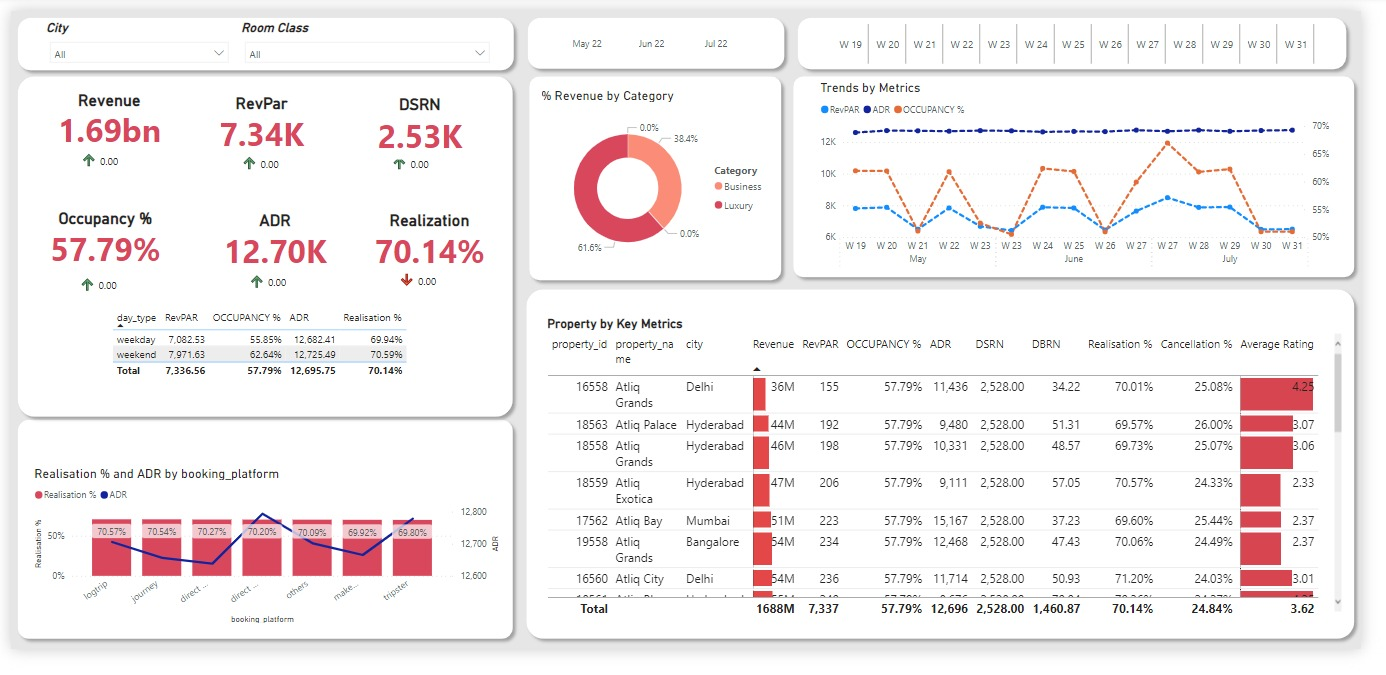

The dashboard page shown, as its layout file describes it:
{"tool":"powerbi","page":{"name":"Page 1","canvas":[1800,850],"ordinal":0},"visuals":[{"type":"shape","box":[0,0,679.7,88],"z":0,"group":"g1"},{"type":"shape","box":[682,78,354,290.2],"z":0,"group":"g5"},{"type":"shape","box":[1034,78,766,286],"z":0,"group":"g4"},{"type":"shape","box":[678,362,1122,484],"z":0,"group":"g6"},{"type":"shape","box":[0,536,678,310],"z":0},{"type":"shape","box":[1040,0,749.1,86.7],"z":1000,"group":"g3"},{"type":"shape","box":[0,78,678,472],"z":1000},{"type":"shape","box":[680,0,360,86],"z":2000,"group":"g2"},{"type":"tableEx","fields":{"Values":["key_measures.Revpar WoW change %"]},"box":[498,162,104,76],"z":2000},{"type":"tableEx","fields":{"Values":["key_measures.Occupancy WoW change %"]},"box":[81.5,323.4,92.9,57.1],"z":3000},{"type":"tableEx","fields":{"Values":["key_measures.ADR WoW change %"]},"box":[307.7,320.1,76.7,63.3],"z":4000},{"type":"tableEx","fields":{"Values":["key_measures.Realisation WoW change %"]},"box":[508.4,318.8,81.7,63.3],"z":5000},{"type":"tableEx","fields":{"Values":["key_measures.Revpar WoW change %"]},"box":[298.7,161.3,106,76],"z":6000},{"type":"tableEx","fields":{"Values":["key_measures.Revenue WoW change %"]},"box":[84.8,158.5,85,76.7],"z":7000},{"type":"card","title":"Revenue","fields":{"Values":["key_measures.Revenue"]},"box":[36.4,105.2,190,83.3],"z":8000},{"type":"tableEx","title":"Property by Key Metrics","fields":{"Values":["dim_hotels.property_id","dim_hotels.property_name","dim_hotels.city","key_measures.Revenue","key_measures.RevPAR","key_measures.OCCUPANCY %","key_measures.ADR","key_measures.DSRN","key_measures.DBRN","key_measures.Realisation %","key_measures.Cancellation %","key_measures.Average Rating"]},"box":[709.2,405.8,1068.7,408.1],"z":8000,"group":"g6"},{"type":"donutChart","title":"% Revenue by Category","fields":{"Y":["key_measures.OCCUPANCY %","key_measures.Revenue"],"Category":["dim_hotels.category"]},"box":[702.8,102.4,316.5,248.7],"z":9000,"group":"g5"},{"type":"card","title":"RevPar","fields":{"Values":["key_measures.RevPAR"]},"box":[240.7,109.3,188,84],"z":9000},{"type":"card","title":"DSRN","fields":{"Values":["key_measures.DSRN"]},"box":[442,112,206,86],"z":10000},{"type":"slicer","title":"City","fields":{"Values":["dim_hotels.city"]},"box":[41,11.6,257.8,66.4],"z":11000,"group":"g1"},{"type":"card","title":"Occupancy %","fields":{"Values":["key_measures.OCCUPANCY %"]},"box":[31.9,264.1,187.5,85],"z":11000},{"type":"slicer","title":"Room Class","fields":{"Values":["dim_rooms.room_class"]},"box":[301.7,11.6,345.7,66.4],"z":12000,"group":"g1"},{"type":"card","title":"ADR","fields":{"Values":["key_measures.ADR"]},"box":[258.4,265.8,188,86],"z":12000},{"type":"slicer","fields":{"Values":["dim_date.mmm yy"]},"box":[699.1,13.1,306,57.2],"z":13000,"group":"g2"},{"type":"card","title":"Realization","fields":{"Values":["key_measures.Realisation %"]},"box":[464.4,266.4,188,84],"z":13000},{"type":"slicer","fields":{"Values":["dim_date.week no"]},"box":[1069.7,10,691.5,66.7],"z":14000,"group":"g3"},{"type":"lineStackedColumnComboChart","fields":{"Y":["key_measures.Realisation %"],"Category":["fact_bookings.booking_platform"],"Y2":["key_measures.ADR"]},"box":[25,605,630,215],"z":14000},{"type":"lineChart","title":"Trends by Metrics","fields":{"Category":["dim_date.date.Variation.Date Hierarchy.Month","dim_date.week no"],"Y":["key_measures.RevPAR","key_measures.ADR"],"Y2":["key_measures.OCCUPANCY %"]},"box":[1073.6,91.8,689,260.6],"z":15000,"group":"g4"},{"type":"tableEx","fields":{"Values":["dim_date.day_type","key_measures.RevPAR","key_measures.OCCUPANCY %","key_measures.ADR","key_measures.Realisation %"]},"box":[130,392,428,144],"z":15000},{"type":"group","id":"g1","title":"Group 1","box":[0,0,682,88],"z":16000},{"type":"group","id":"g2","title":"Group 2","box":[680,0,360,86],"z":17000},{"type":"group","id":"g3","title":"Group 3","box":[1040,0,746,86],"z":18000},{"type":"group","id":"g4","title":"Group 4","box":[1034,78,766,286],"z":19000},{"type":"group","id":"g5","title":"Group 5","box":[682,78,356,288],"z":20000},{"type":"group","id":"g6","title":"Group 6","box":[678,362,1122,484],"z":21000}]}

Visuals, with their boxes on the page's 1800x850 design canvas (x1, y1, x2, y2). These are canvas units, not pixel positions in the 1386x675 screenshot, which may show the page scaled, cropped or inside an application window:
shape: <bbox>0, 0, 680, 88</bbox>
shape: <bbox>682, 78, 1036, 368</bbox>
shape: <bbox>1034, 78, 1800, 364</bbox>
shape: <bbox>678, 362, 1800, 846</bbox>
shape: <bbox>0, 536, 678, 846</bbox>
shape: <bbox>1040, 0, 1789, 87</bbox>
shape: <bbox>0, 78, 678, 550</bbox>
shape: <bbox>680, 0, 1040, 86</bbox>
tableEx - key_measures.Revpar WoW change %: <bbox>498, 162, 602, 238</bbox>
tableEx - key_measures.Occupancy WoW change %: <bbox>82, 323, 174, 380</bbox>
tableEx - key_measures.ADR WoW change %: <bbox>308, 320, 384, 383</bbox>
tableEx - key_measures.Realisation WoW change %: <bbox>508, 319, 590, 382</bbox>
tableEx - key_measures.Revpar WoW change %: <bbox>299, 161, 405, 237</bbox>
tableEx - key_measures.Revenue WoW change %: <bbox>85, 158, 170, 235</bbox>
"Revenue" card: <bbox>36, 105, 226, 188</bbox>
"Property by Key Metrics" tableEx: <bbox>709, 406, 1778, 814</bbox>
"% Revenue by Category" donutChart: <bbox>703, 102, 1019, 351</bbox>
"RevPar" card: <bbox>241, 109, 429, 193</bbox>
"DSRN" card: <bbox>442, 112, 648, 198</bbox>
"City" slicer: <bbox>41, 12, 299, 78</bbox>
"Occupancy %" card: <bbox>32, 264, 219, 349</bbox>
"Room Class" slicer: <bbox>302, 12, 647, 78</bbox>
"ADR" card: <bbox>258, 266, 446, 352</bbox>
slicer - dim_date.mmm yy: <bbox>699, 13, 1005, 70</bbox>
"Realization" card: <bbox>464, 266, 652, 350</bbox>
slicer - dim_date.week no: <bbox>1070, 10, 1761, 77</bbox>
lineStackedColumnComboChart - key_measures.Realisation % x fact_bookings.booking_platform: <bbox>25, 605, 655, 820</bbox>
"Trends by Metrics" lineChart: <bbox>1074, 92, 1763, 352</bbox>
tableEx - dim_date.day_type x key_measures.RevPAR: <bbox>130, 392, 558, 536</bbox>
"Group 1" group: <bbox>0, 0, 682, 88</bbox>
"Group 2" group: <bbox>680, 0, 1040, 86</bbox>
"Group 3" group: <bbox>1040, 0, 1786, 86</bbox>
"Group 4" group: <bbox>1034, 78, 1800, 364</bbox>
"Group 5" group: <bbox>682, 78, 1038, 366</bbox>
"Group 6" group: <bbox>678, 362, 1800, 846</bbox>
